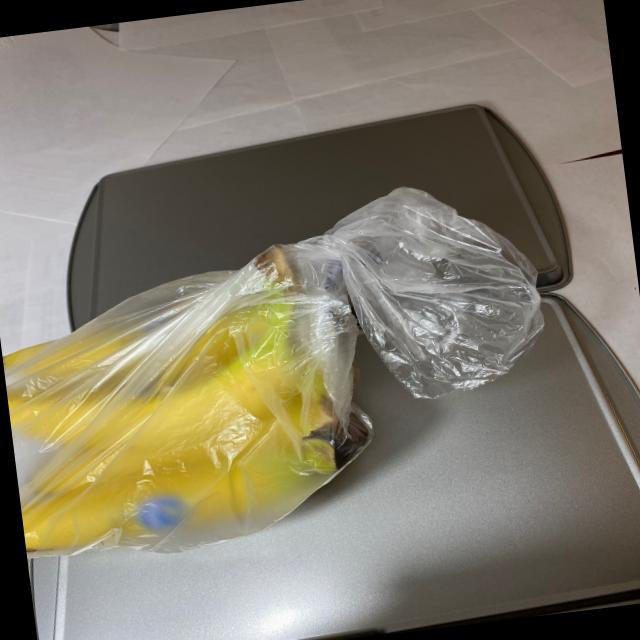banana: (0, 220, 388, 593)
